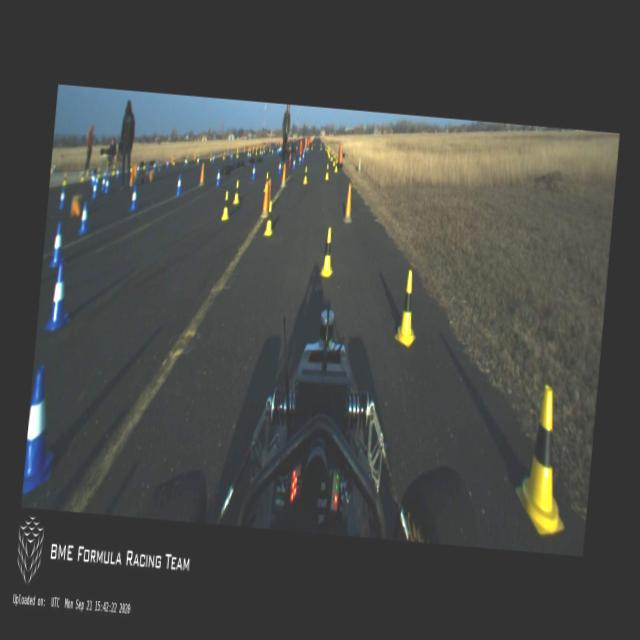blue_cone: (22, 364, 60, 496), (44, 263, 72, 330), (49, 222, 65, 266), (78, 201, 90, 233), (129, 184, 139, 210), (58, 188, 66, 208), (176, 173, 182, 193), (104, 177, 110, 191), (92, 183, 97, 198), (216, 168, 220, 184), (251, 164, 255, 178), (101, 177, 105, 190), (278, 160, 282, 173), (52, 161, 56, 174), (91, 174, 95, 186), (292, 156, 295, 170), (90, 172, 93, 185), (95, 174, 98, 187), (115, 168, 118, 178), (301, 151, 304, 161), (136, 164, 139, 173), (153, 162, 156, 170), (183, 158, 186, 166), (271, 146, 273, 155), (166, 159, 168, 168), (276, 146, 278, 155), (298, 156, 300, 164), (246, 150, 248, 158), (230, 152, 232, 160), (212, 154, 214, 162), (296, 144, 298, 152), (197, 156, 199, 164), (260, 150, 262, 156), (280, 146, 282, 152), (278, 146, 280, 152), (302, 148, 304, 154), (306, 146, 308, 152), (306, 146, 308, 152)
yellow_cone: (512, 383, 576, 534), (394, 270, 421, 346), (319, 227, 336, 276), (264, 201, 274, 234), (220, 190, 230, 218), (232, 179, 240, 202), (302, 166, 308, 182), (324, 163, 330, 179), (264, 172, 268, 191), (333, 159, 338, 172), (62, 172, 66, 184), (80, 169, 84, 181), (49, 162, 52, 175), (142, 160, 146, 169), (129, 160, 132, 172), (97, 166, 100, 177), (222, 150, 225, 160), (112, 164, 115, 174), (185, 154, 188, 164), (330, 152, 333, 160), (172, 156, 175, 164), (255, 148, 258, 156), (333, 154, 335, 165), (319, 144, 322, 150), (236, 150, 238, 158), (249, 148, 251, 156), (328, 150, 330, 158), (196, 154, 198, 162), (210, 153, 212, 160), (258, 147, 260, 154), (327, 146, 329, 153), (268, 146, 270, 152), (262, 147, 264, 153), (310, 144, 312, 150), (324, 144, 326, 150), (326, 144, 328, 150), (328, 149, 328, 155)
